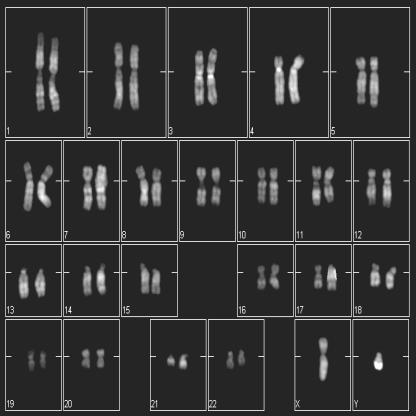1: (46, 24, 59, 118), (34, 24, 46, 118)
10: (254, 160, 268, 208), (268, 160, 282, 208)
11: (308, 160, 323, 209), (322, 160, 337, 209)
12: (378, 165, 393, 209), (365, 163, 377, 208)
13: (16, 262, 30, 301), (33, 262, 47, 301)
14: (80, 262, 94, 298), (95, 261, 108, 297)
15: (140, 262, 152, 298), (151, 262, 163, 296)
16: (254, 258, 268, 292), (268, 258, 282, 292)
17: (311, 261, 325, 294), (324, 262, 338, 295)
18: (383, 258, 400, 294), (366, 256, 382, 292)
19: (36, 346, 48, 378), (25, 346, 37, 376)
2: (112, 36, 126, 114), (126, 36, 140, 114)
20: (92, 344, 109, 370), (78, 343, 92, 369)
21: (176, 346, 188, 376), (164, 348, 176, 376)
22: (224, 346, 236, 375), (236, 346, 248, 375)
3: (194, 40, 206, 114), (206, 39, 218, 113)
4: (271, 48, 287, 108), (287, 48, 303, 108)
5: (367, 51, 384, 112), (352, 51, 368, 112)
6: (36, 157, 53, 213), (20, 158, 36, 214)
7: (80, 160, 94, 214), (94, 160, 108, 214)
8: (151, 158, 170, 210), (132, 160, 151, 210)
9: (194, 158, 210, 210), (208, 158, 224, 210)
X: (315, 334, 330, 386)
Y: (370, 346, 385, 374)
